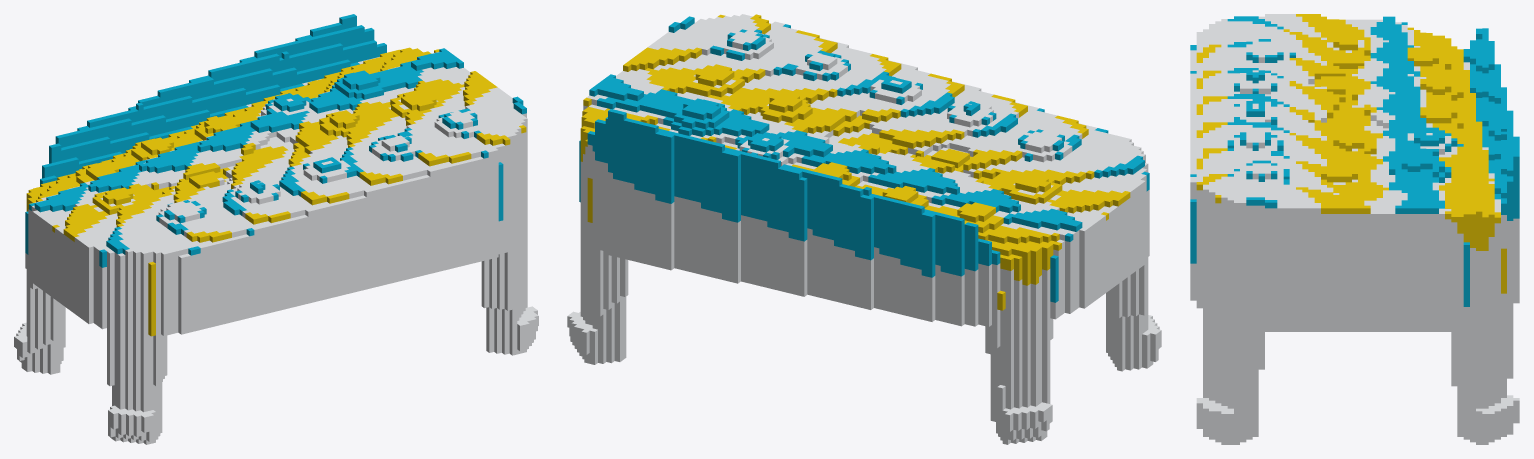
3 renders of one model, left to right at view 1: azimuth 30°, elevation 25°; view 2: azimuth 150°, elevation 25°; view 3: azimuth 270°, elevation 25°, orthographic. The views are drawn at different scales.
Visible parts, largest first — view 1: =>[0:1:1:296], =>[0:1:1:575], =>[0:1:1:297], =>[0:1:1:298], =>[0:1:1:633], =>[0:1:1:1384], =>[0:1:1:1562], =>[0:1:1:1385], =>[0:1:1:299], =>[0:1:1:1911], =>[0:1:1:1919], =>[0:1:1:900] (+19 smaller); view 2: =>[0:1:1:575], =>[0:1:1:493], =>[0:1:1:1434], =>[0:1:1:654], =>[0:1:1:1076], =>[0:1:1:509], =>[0:1:1:4408], =>[0:1:1:3248], =>[0:1:1:3641], =>[0:1:1:4407], =>[0:1:1:1484], =>[0:1:1:3653] (+26 smaller); view 3: =>[0:1:1:1092], =>[0:1:1:691], =>[0:1:1:789], =>[0:1:1:788], =>[0:1:1:1464], =>[0:1:1:2110], =>[0:1:1:548], =>[0:1:1:1895], =>[0:1:1:1896], =>[0:1:1:692], =>[0:1:1:643], =>[0:1:1:554] (+38 smaller).
Boxes of the visible parts, x1,y1,x2,y2 form: =>[0:1:1:296]: [181, 180, 498, 334]; =>[0:1:1:575]: [32, 217, 88, 323]; =>[0:1:1:297]: [200, 175, 498, 253]; =>[0:1:1:298]: [254, 170, 498, 234]; =>[0:1:1:633]: [143, 251, 153, 411]; =>[0:1:1:1384]: [163, 251, 178, 335]; =>[0:1:1:1562]: [512, 135, 517, 350]; =>[0:1:1:1385]: [496, 144, 510, 254]; =>[0:1:1:299]: [308, 165, 498, 216]; =>[0:1:1:1911]: [114, 252, 120, 408]; =>[0:1:1:1919]: [120, 255, 125, 409]; =>[0:1:1:900]: [407, 121, 467, 156]; =>[0:1:1:575]: [1084, 192, 1145, 308]; =>[0:1:1:493]: [608, 188, 671, 270]; =>[0:1:1:1434]: [674, 207, 737, 283]; =>[0:1:1:654]: [741, 226, 804, 296]; =>[0:1:1:1076]: [807, 245, 870, 309]; =>[0:1:1:509]: [874, 263, 932, 321]; =>[0:1:1:4408]: [674, 135, 700, 202]; =>[0:1:1:3248]: [741, 154, 767, 221]; =>[0:1:1:3641]: [634, 123, 655, 194]; =>[0:1:1:4407]: [701, 142, 721, 213]; =>[0:1:1:1484]: [935, 270, 961, 326]; =>[0:1:1:3653]: [812, 174, 833, 240]; =>[0:1:1:1092]: [1265, 219, 1451, 331]; =>[0:1:1:691]: [1246, 205, 1264, 329]; =>[0:1:1:789]: [1476, 251, 1488, 408]; =>[0:1:1:788]: [1227, 200, 1233, 408]; =>[0:1:1:1464]: [1209, 192, 1215, 400]; =>[0:1:1:2110]: [1221, 197, 1227, 405]; =>[0:1:1:548]: [1234, 203, 1239, 439]; =>[0:1:1:1895]: [1215, 203, 1221, 403]; =>[0:1:1:1896]: [1494, 223, 1500, 403]; =>[0:1:1:692]: [1451, 233, 1463, 329]; =>[0:1:1:643]: [1203, 189, 1208, 397]; =>[0:1:1:554]: [1240, 203, 1246, 377].
Bounding box in the file's own units: 38.98 × 20.58 × 23.21.
